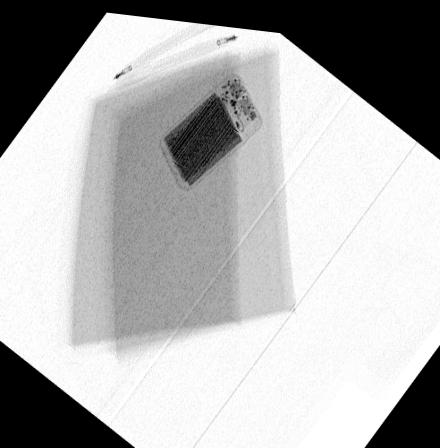Powerbank: (158, 65, 263, 184)
